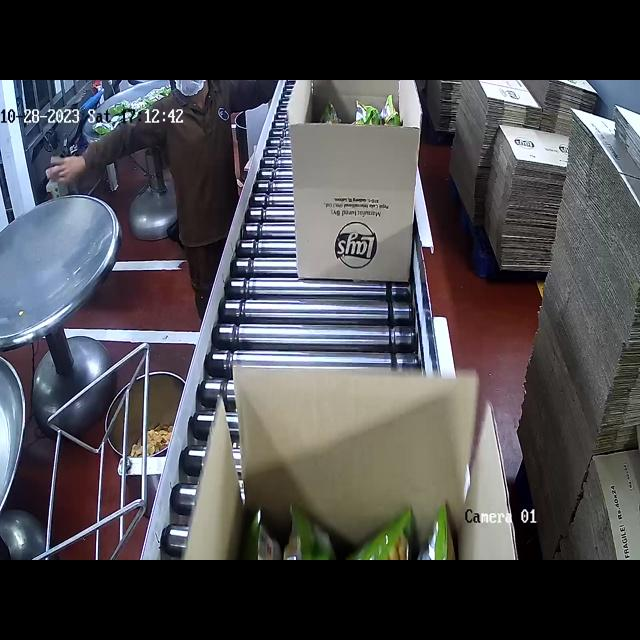yogurt: (250, 494, 460, 560), (319, 93, 410, 135)
